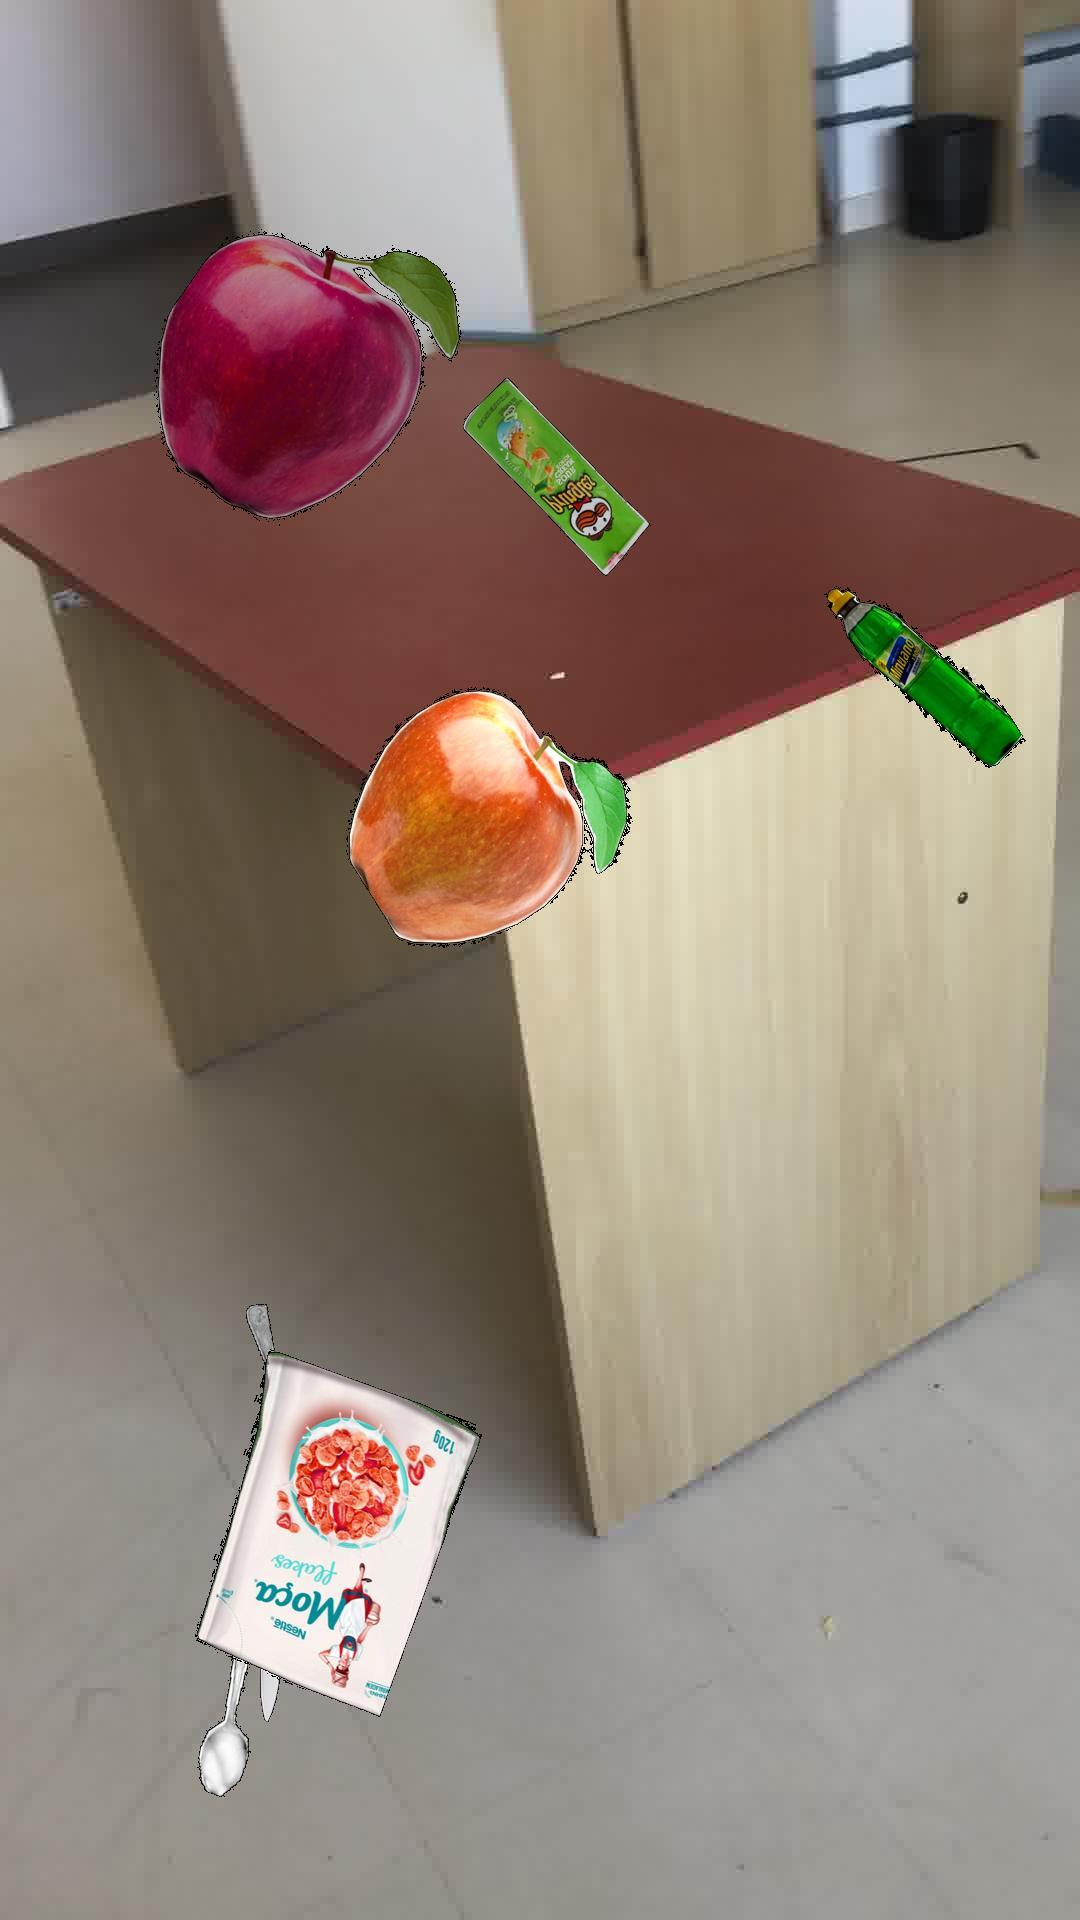apple: (154, 231, 459, 517), (347, 687, 630, 947)
cleaner: (823, 585, 1025, 766)
corn flakes: (194, 1349, 480, 1716)
knife: (258, 1667, 278, 1721)
pringles: (462, 377, 649, 575)
spoon: (196, 1656, 249, 1796), (244, 1303, 273, 1361)
